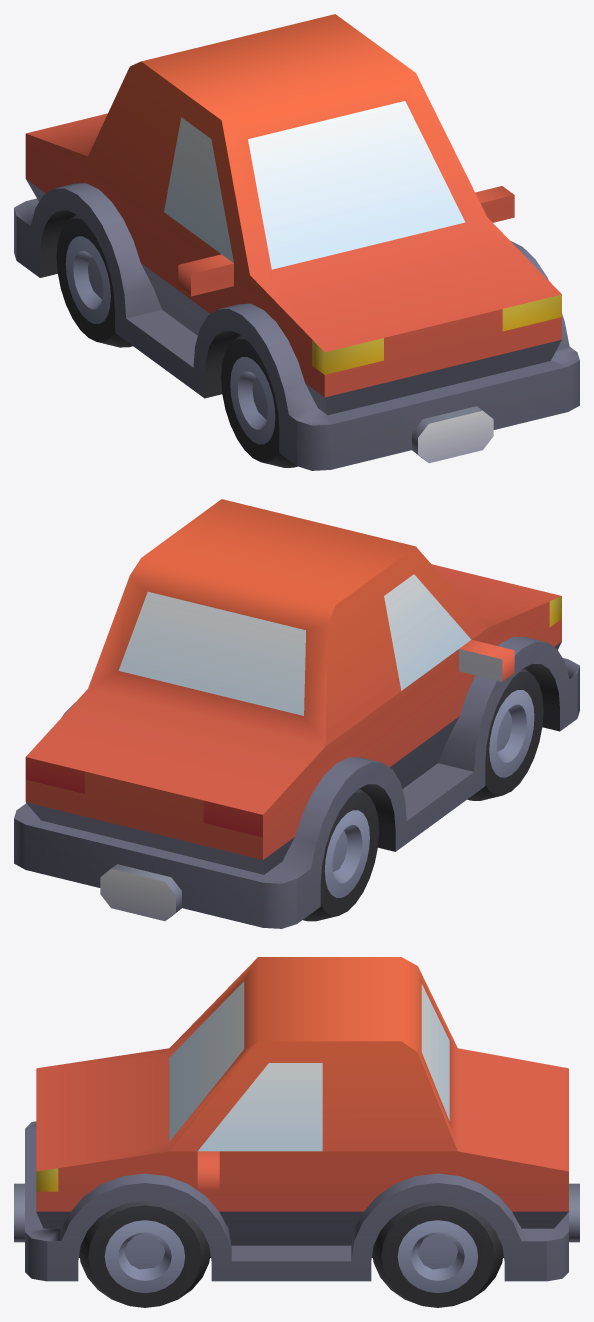
The model's file is traffic_sedan.glb.
3 renders of one model, top to bottom at view 1: azimuth 30°, elevation 25°; view 2: azimuth 150°, elevation 25°; view 3: azimuth 270°, elevation 25°, orthographic. The views are drawn at different scales.
Visible parts, largest first — view 1: wheel-front-right; view 2: wheel-front-right; view 3: wheel-front-right.
Part boxes in pixels (bbox=[...]): wheel-front-right: bbox=[14, 14, 579, 470]; wheel-front-right: bbox=[14, 499, 579, 928]; wheel-front-right: bbox=[14, 957, 579, 1307].
Size of the model in its own units: 1.5 by 1.3 by 2.55.
1 material, 1 textured.
